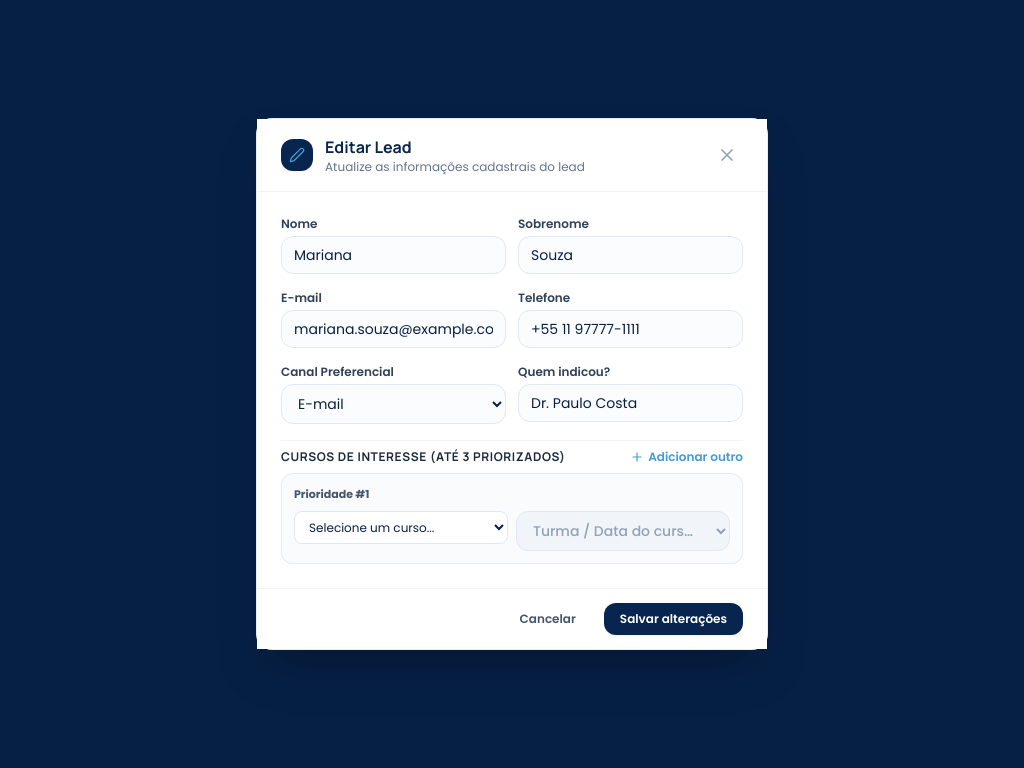
Scenario: PART B: Edit Lead in Complete Lead Profile › 11. protects against email identity conflict (blocks unsafe merge or duplicate)
Step 1. Replace the text in the field showing "mariana.souza@example.com" below "E-mail" with "existente@example.com" → (394, 329), box [281,310,506,348]
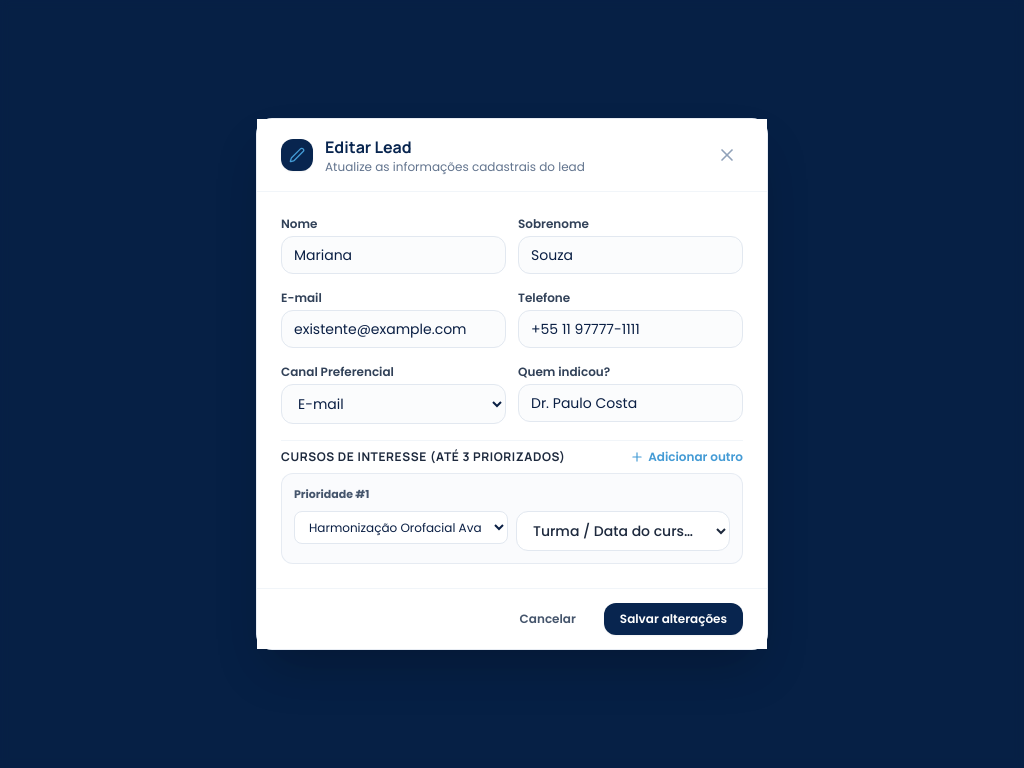
Step 2. Click the button "Salvar alterações" → (673, 619), box [604,603,743,635]
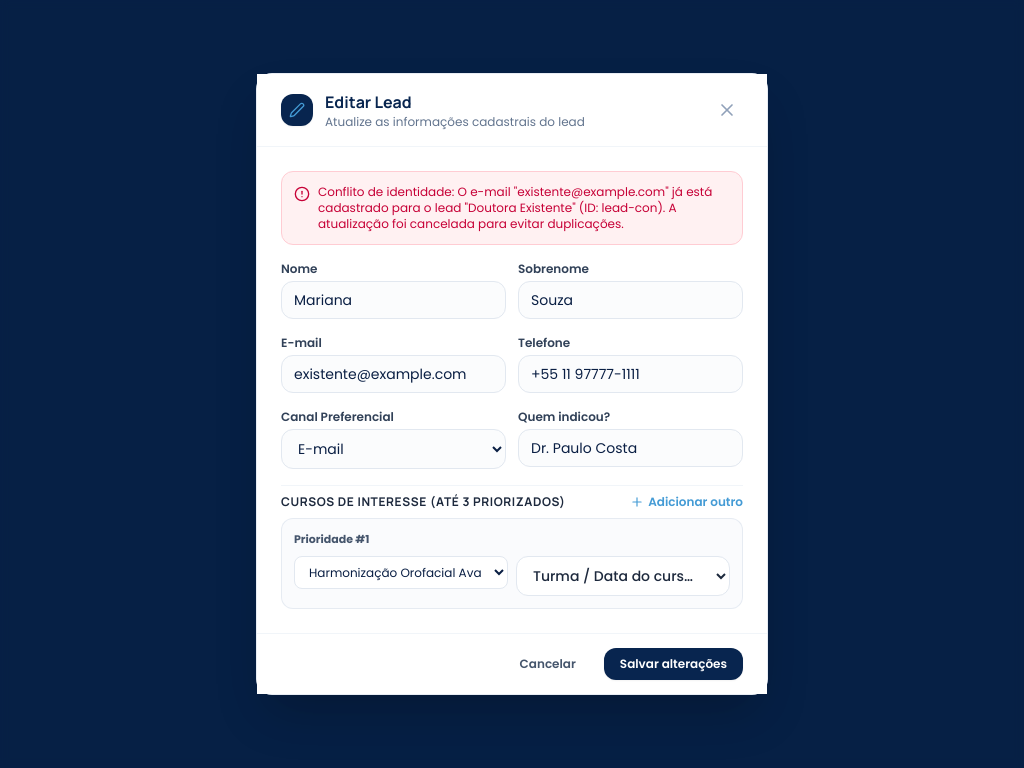
Result: the text "Doutora Existente" is shown at [318,183,712,232]
